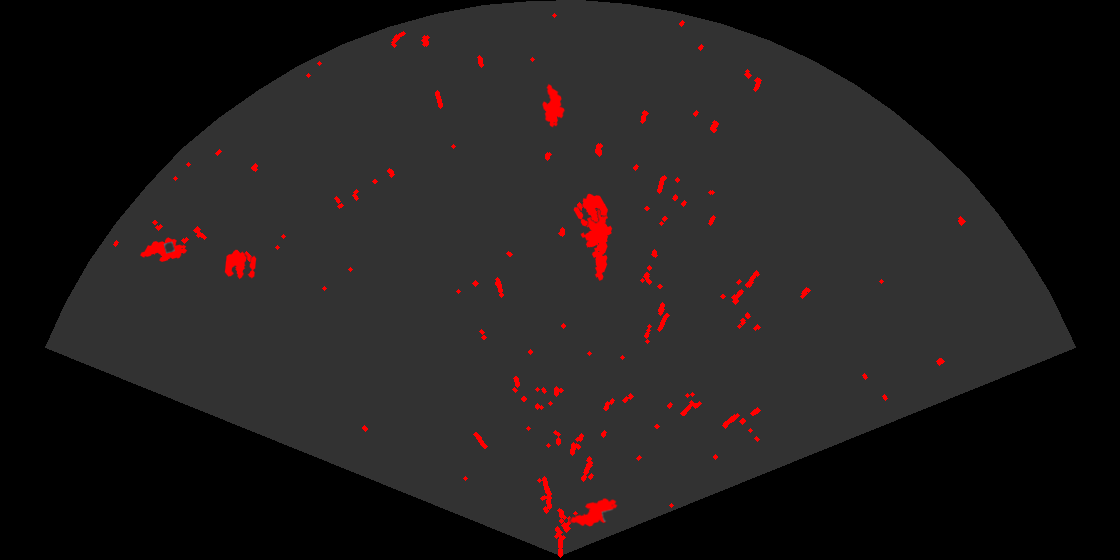AUV: (568, 497, 619, 528), (139, 236, 189, 264), (541, 82, 567, 129)
ball: (572, 192, 610, 228), (223, 248, 258, 281)
frogman: (579, 204, 614, 282)
